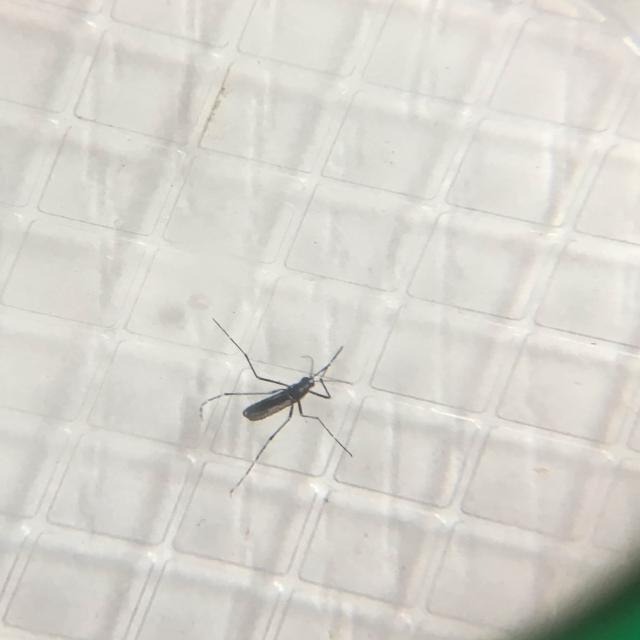albopictus: (176, 308, 364, 502)
